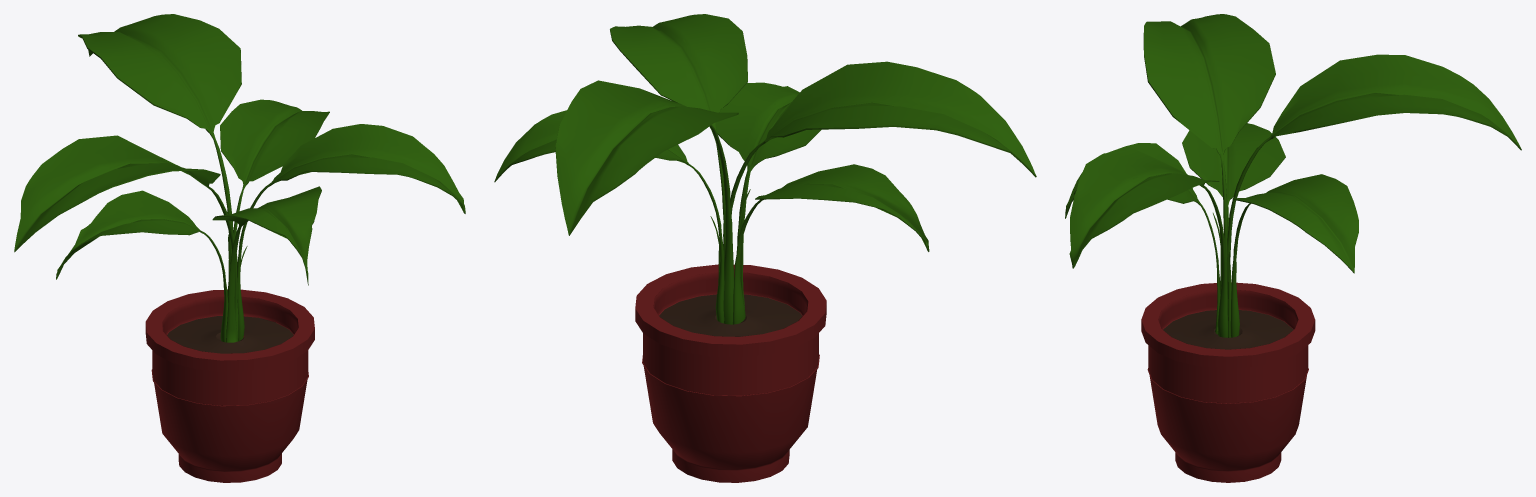
The model's file is plant-transformed.glb.
The picture shows the model from 3 angles, left to right: view 1: azimuth 30°, elevation 25°; view 2: azimuth 150°, elevation 25°; view 3: azimuth 270°, elevation 25°; orthographic projection. The views are drawn at different scales.
Visible parts, largest first — view 1: polySurface7_lambert2_0, pCylinder1_lambert3_0, pCylinder1_lambert4_0; view 2: polySurface7_lambert2_0, pCylinder1_lambert3_0, pCylinder1_lambert4_0; view 3: polySurface7_lambert2_0, pCylinder1_lambert3_0, pCylinder1_lambert4_0.
Boxes of the visible parts, bbox=[...] form: polySurface7_lambert2_0: bbox=[14, 14, 465, 342]; pCylinder1_lambert3_0: bbox=[145, 289, 314, 482]; pCylinder1_lambert4_0: bbox=[167, 316, 293, 353]; polySurface7_lambert2_0: bbox=[494, 14, 1036, 324]; pCylinder1_lambert3_0: bbox=[635, 264, 826, 482]; pCylinder1_lambert4_0: bbox=[659, 294, 801, 336]; polySurface7_lambert2_0: bbox=[1065, 14, 1521, 337]; pCylinder1_lambert3_0: bbox=[1141, 282, 1315, 482]; pCylinder1_lambert4_0: bbox=[1163, 310, 1293, 349].
Bounding box in the file's own units: 17.51 × 15.1 × 16.6.
3 materials, 1 textured.
